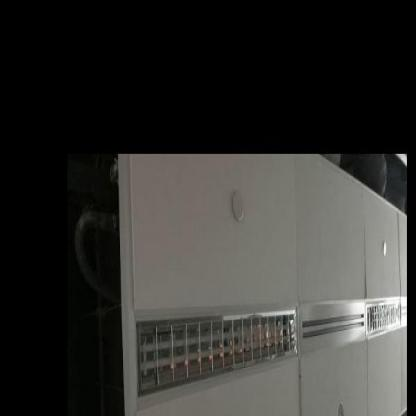light_off: (133, 301, 296, 404), (363, 295, 403, 338)
